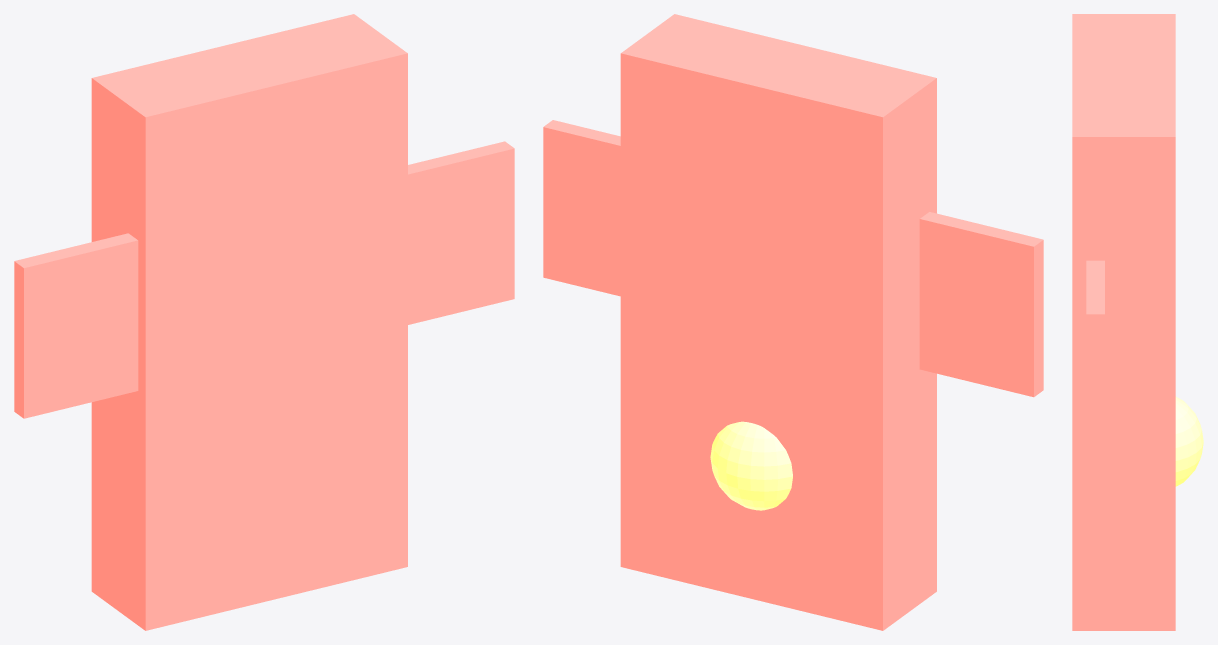
The model's file is enemy_light.glb.
3 views of the same model, side by side, from view 1: azimuth 30°, elevation 25°; view 2: azimuth 150°, elevation 25°; view 3: azimuth 270°, elevation 25° (orthographic). The views are drawn at different scales.
Visible parts, largest first — view 1: body, wing; view 2: body, wing, eye; view 3: body, wing, eye.
Part boxes in pixels (box(x1,y1,x2,y2)): body: box(91, 14, 407, 630); wing: box(14, 141, 514, 418); body: box(620, 14, 936, 630); wing: box(543, 120, 1043, 397); eye: box(710, 421, 792, 510); body: box(1072, 14, 1175, 630); wing: box(1086, 260, 1104, 458); eye: box(1175, 396, 1203, 486).
Size of the model in its own units: 1.16 by 1.16 by 0.28.
